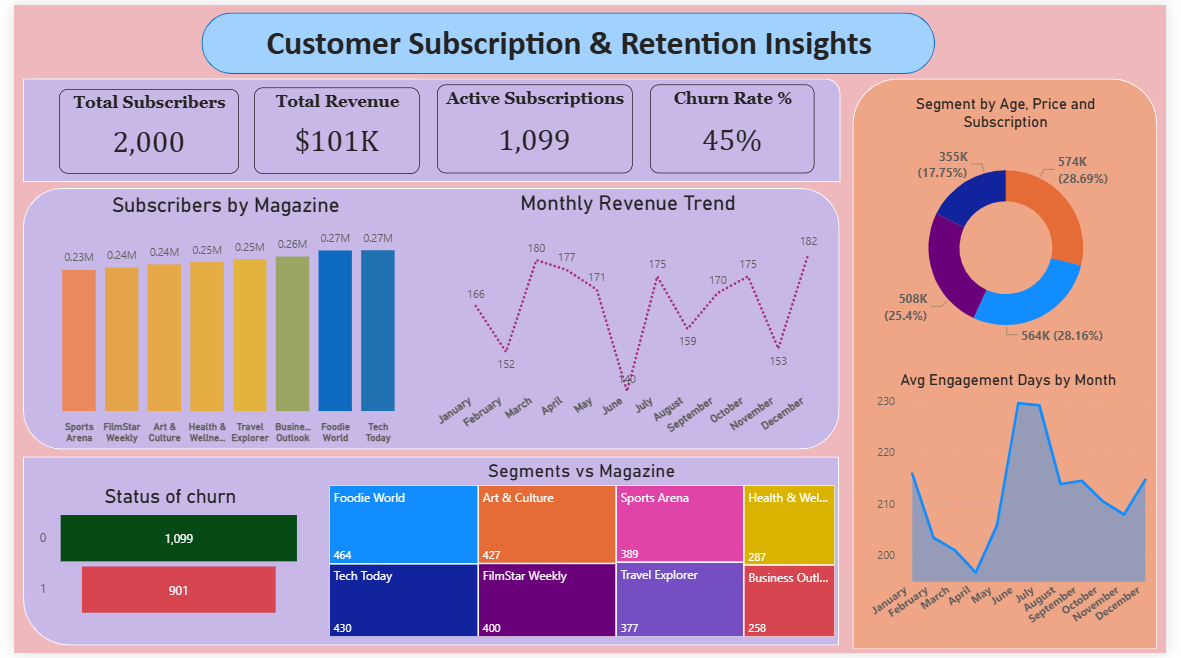

This screenshot's page, from the dashboard's own definition file:
{"tool":"powerbi","page":{"name":"Executive Overview","canvas":[1280,720],"ordinal":0},"visuals":[{"type":"shape","box":[10,202.9,907.2,290.6],"z":0},{"type":"shape","box":[931.4,81.4,338.6,634.3],"z":1000},{"type":"shape","box":[10,81.7,908.3,115],"z":2000},{"type":"shape","box":[10,501.7,906.7,210],"z":3000},{"type":"card","title":"Total Subscribers","fields":{"Values":["customer_prediction_final.Total Subscribers"]},"box":[50,92.9,200,94.3],"z":4000},{"type":"card","title":"Total Revenue","fields":{"Values":["customer_prediction_final.Total Revenue"]},"box":[267.1,91.4,184.3,95.7],"z":5000},{"type":"card","title":"Active Subscriptions","fields":{"Values":["customer_prediction_final.Active Subscriptions"]},"box":[470,88.6,217.1,98.6],"z":6000},{"type":"card","title":"Churn Rate %","fields":{"Values":["customer_prediction_final.Churn Rate %"]},"box":[707.1,88.6,182.9,98.6],"z":7000},{"type":"columnChart","title":"Subscribers by Magazine","fields":{"Category":["customer_prediction_final.magazine_name"],"Y":["Sum(customer_prediction_final.subscription_id)"]},"box":[23.5,208,424,285.5],"z":8000},{"type":"lineChart","title":"Monthly Revenue Trend","fields":{"Category":["customer_prediction_final.month.Variation.Date Hierarchy.Month"],"Y":["customer_prediction_final.Total Subscribers"]},"box":[462.8,206.3,437.6,287.2],"z":9000},{"type":"funnel","title":"Status of churn","fields":{"Category":["customer_prediction_final.churn"],"Y":["CountNonNull(customer_prediction_final.status)"]},"box":[23.5,534,300.7,155.4],"z":10000},{"type":"areaChart","fields":{"Category":["customer_prediction_final.month.Variation.Date Hierarchy.Month"],"Y":["customer_prediction_final.Avg Engagement Days"]},"box":[937.5,407.3,332.8,300.7],"z":11000},{"type":"donutChart","title":"Segment by Age, Price and Subscription","fields":{"Category":["customer_prediction_final.segment"],"Y":["Sum(customer_prediction_final.subscription_id)"]},"box":[951.7,100,300,300],"z":12000},{"type":"treemap","title":"Segments vs Magazine","fields":{"Values":["Sum(customer_prediction_final.segment)"],"Group":["customer_prediction_final.magazine_name"]},"box":[345,505,571.7,201.7],"z":13000},{"type":"shape","box":[208.3,8.3,815,68.3],"z":13500},{"type":"textbox","box":[250,13.3,733.3,60],"z":14000}]}

Visuals, with their boxes in screenshot pixels (x1, y1, x2, y2), scaled from the page's 1280x720 canvas onto the 1181x658 screenshot:
shape: [left=9, top=185, right=846, bottom=451]
shape: [left=859, top=74, right=1172, bottom=654]
shape: [left=9, top=75, right=847, bottom=180]
shape: [left=9, top=458, right=846, bottom=650]
"Total Subscribers" card: [left=46, top=85, right=231, bottom=171]
"Total Revenue" card: [left=246, top=84, right=416, bottom=171]
"Active Subscriptions" card: [left=434, top=81, right=634, bottom=171]
"Churn Rate %" card: [left=652, top=81, right=821, bottom=171]
"Subscribers by Magazine" columnChart: [left=22, top=190, right=413, bottom=451]
"Monthly Revenue Trend" lineChart: [left=427, top=189, right=831, bottom=451]
"Status of churn" funnel: [left=22, top=488, right=299, bottom=630]
areaChart - customer_prediction_final.month.Variation.Date Hierarchy.Month x customer_prediction_final.Avg Engagement Days: [left=865, top=372, right=1172, bottom=647]
"Segment by Age, Price and Subscription" donutChart: [left=878, top=91, right=1155, bottom=366]
"Segments vs Magazine" treemap: [left=318, top=462, right=846, bottom=646]
shape: [left=192, top=8, right=944, bottom=70]
textbox: [left=231, top=12, right=907, bottom=67]
